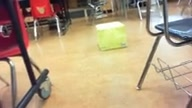cube: (96, 21, 128, 51)
